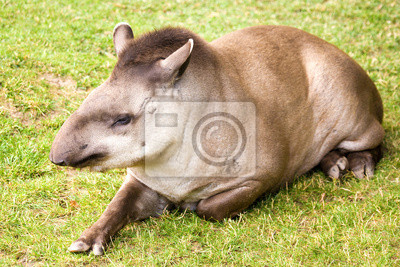Anta: (42, 20, 388, 259)
